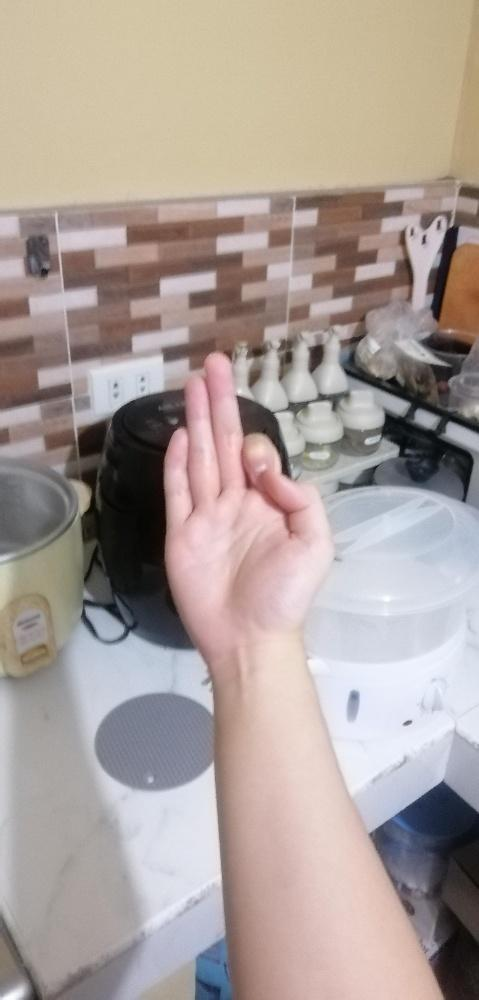f: (159, 350, 335, 646)
